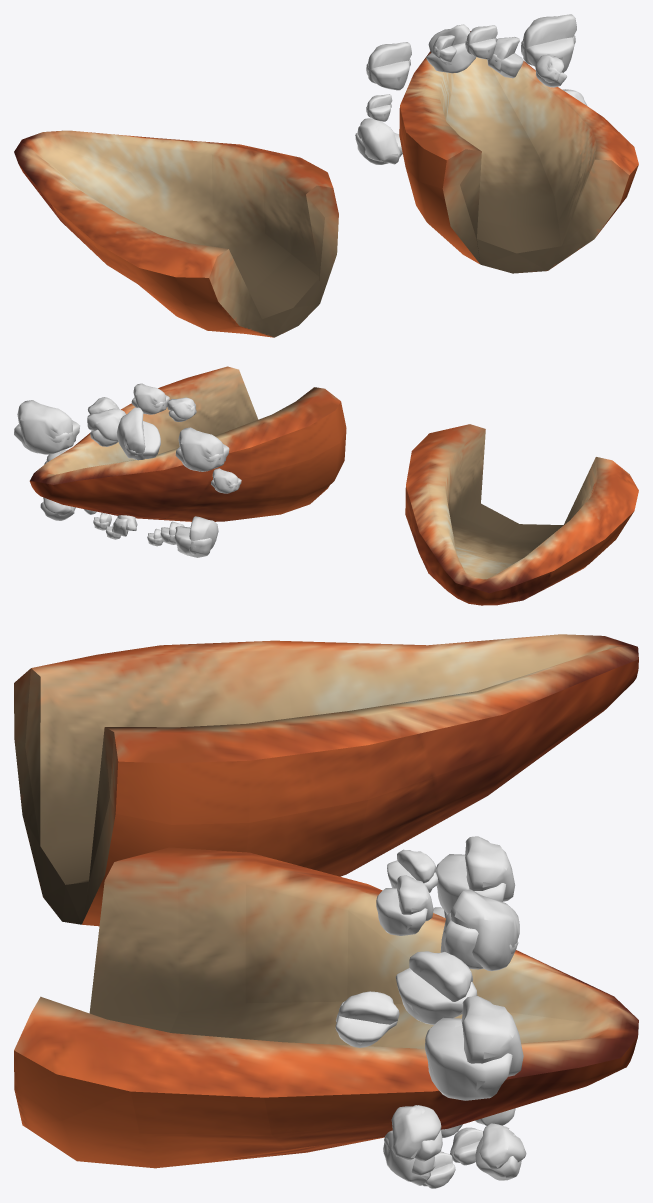
Rendered from KiseRock.fbx.
The picture shows the model from 3 angles, top to bottom: view 1: azimuth 30°, elevation 25°; view 2: azimuth 150°, elevation 25°; view 3: azimuth 270°, elevation 25°; orthographic projection. The views are drawn at different scales.
Visible parts, largest first — view 1: Kise; view 2: Kise; view 3: Kise.
Part boxes in pixels (box(x1,y1,x2,y2)): Kise: box(14, 14, 638, 337); Kise: box(14, 366, 638, 605); Kise: box(14, 634, 638, 1188).
Size of the model in its own units: 1456 by 426 by 813.
Materials: 2 (1 with a texture image).
